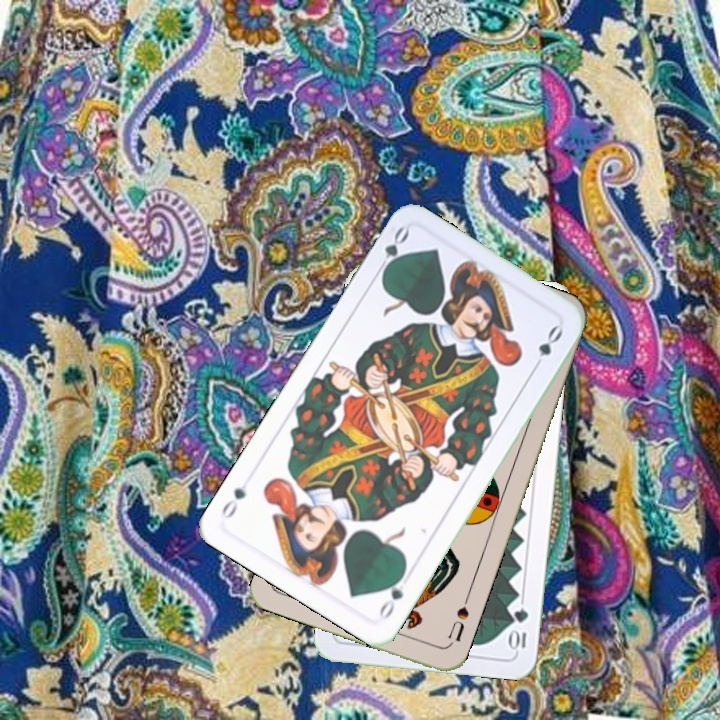G10: (506, 604, 531, 654)
GO: (372, 222, 412, 280), (375, 567, 408, 622)
SU: (443, 591, 472, 649)
